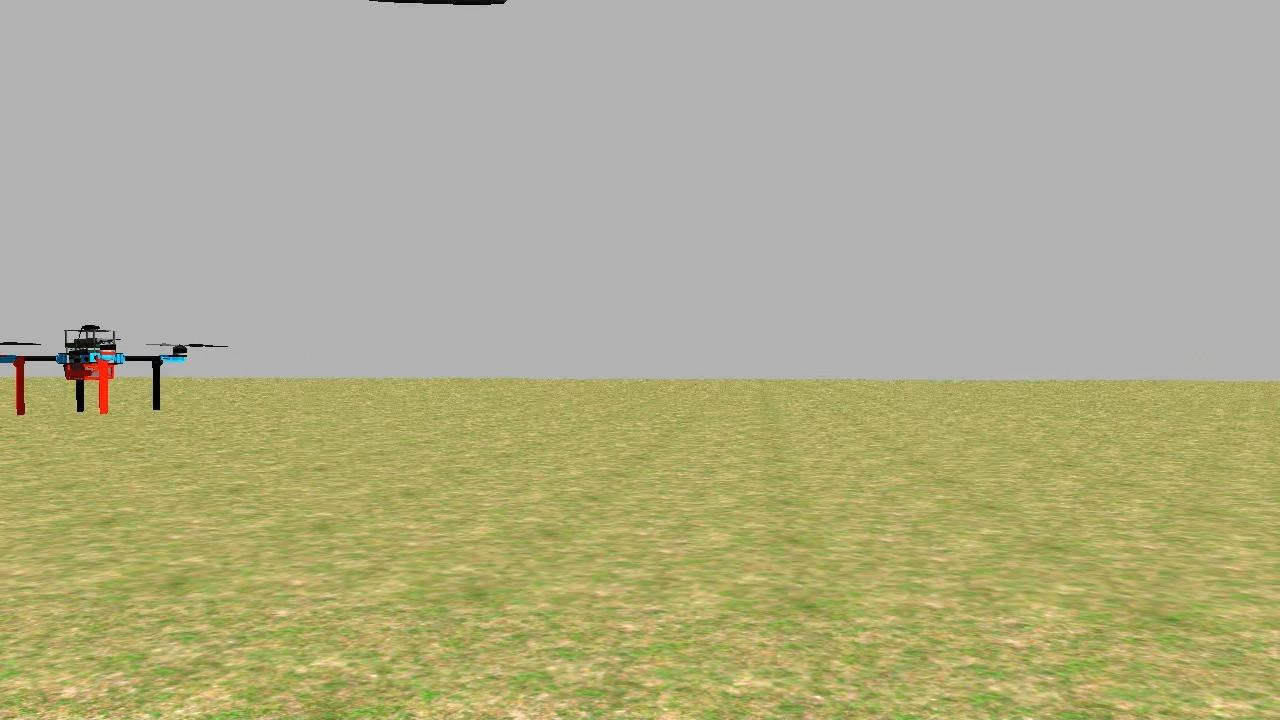UAV: (0, 313, 194, 424)
